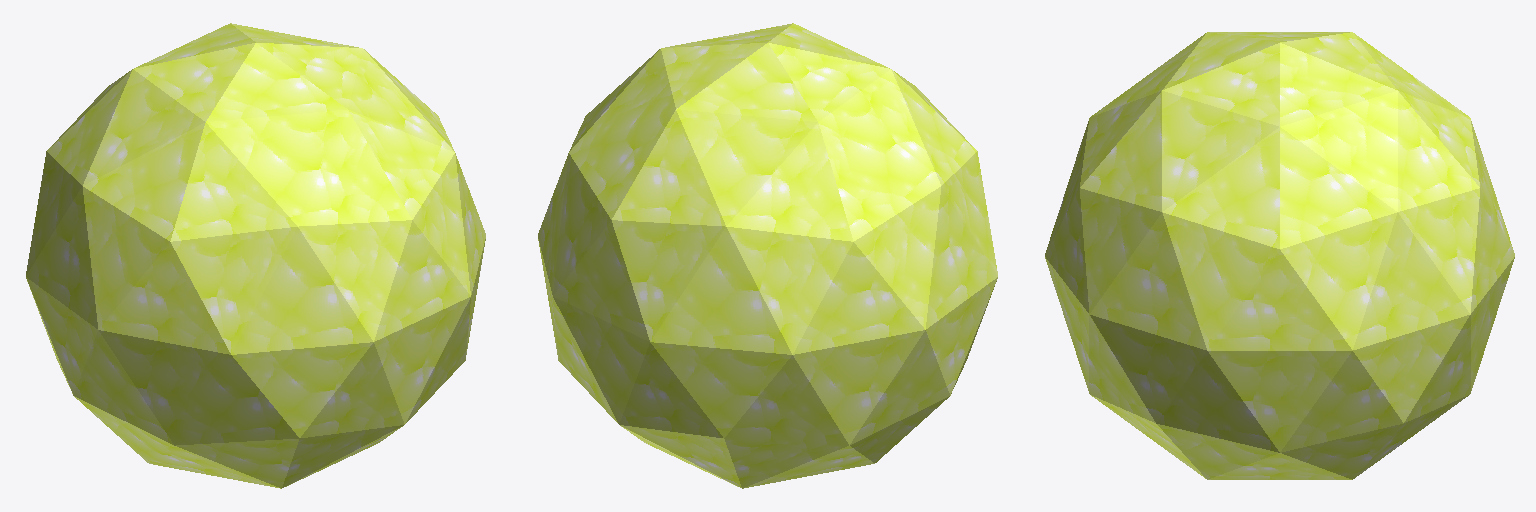
3 renders of one model, left to right at view 1: azimuth 30°, elevation 25°; view 2: azimuth 150°, elevation 25°; view 3: azimuth 270°, elevation 25°, orthographic.
Parts seen in each view (by area): view 1: Icosphere; view 2: Icosphere; view 3: Icosphere.
Part boxes in pixels (bbox=[...]): Icosphere: bbox=[26, 23, 485, 488]; Icosphere: bbox=[538, 23, 997, 488]; Icosphere: bbox=[1045, 32, 1514, 479].
Bounding box in the file's own units: 0.6377 × 0.6705 × 0.6705.
Materials: 1 (1 with a texture image).